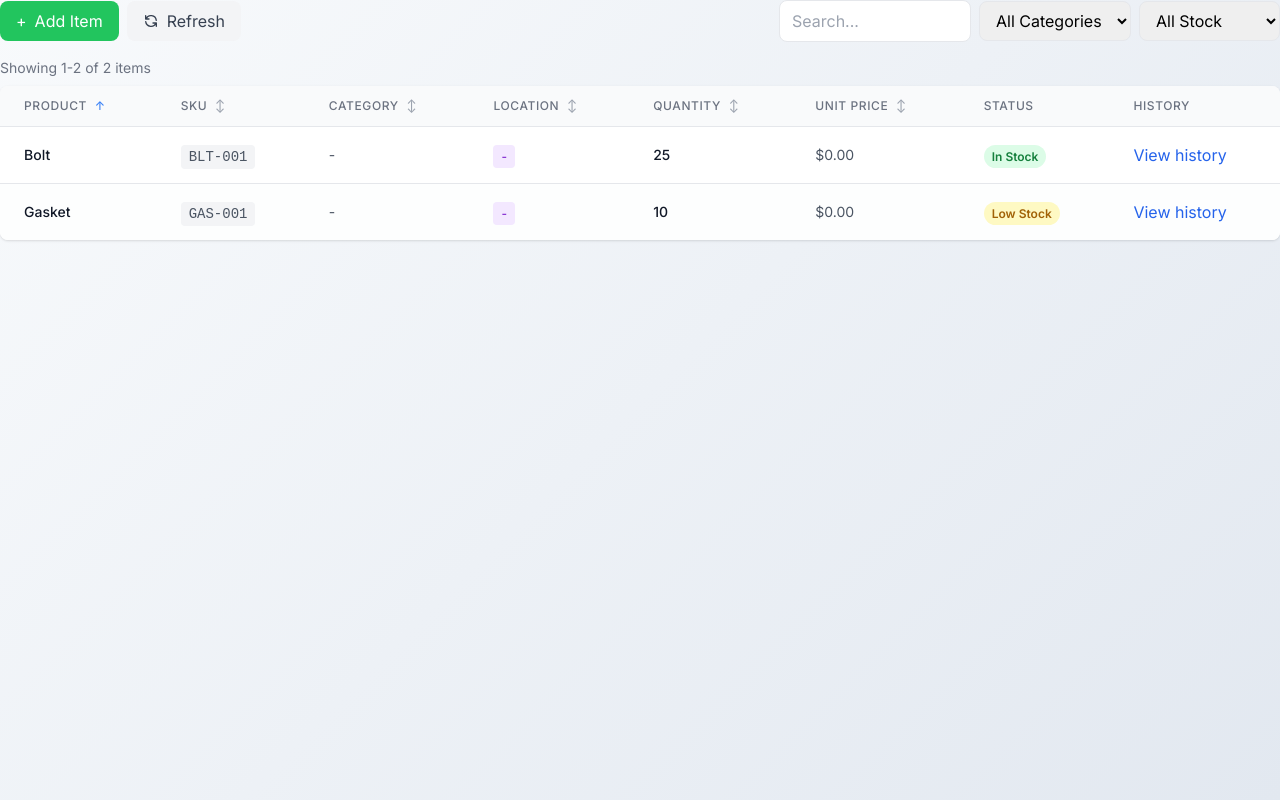
Test: switching items fetches that item history and replaces the old author
Click the button with aria-label "View history for Bolt": (1180, 155) 1133,143 -> 1227,167
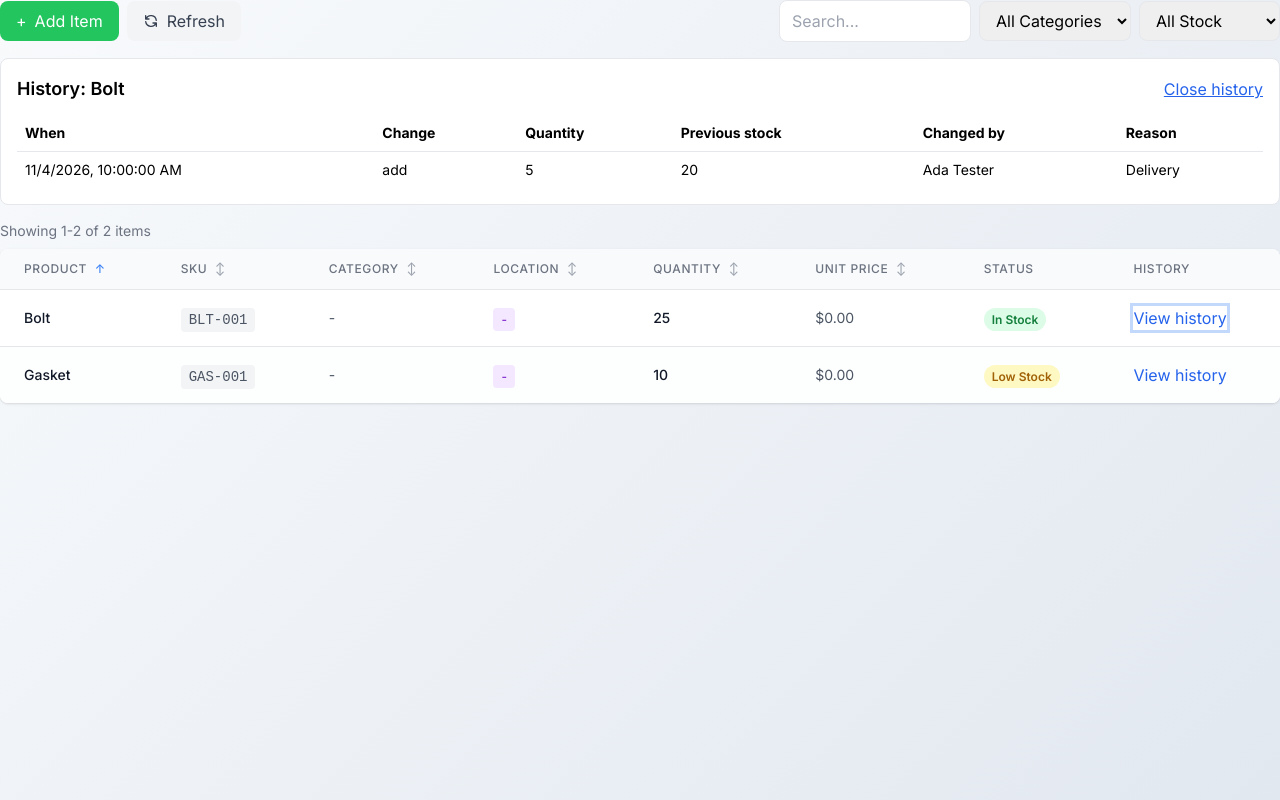
Check: the text "Ada Tester" is shown, box 915,152 -> 1118,188
Click the button with aria-label "View history for Gasket": (1180, 375) 1133,363 -> 1227,387
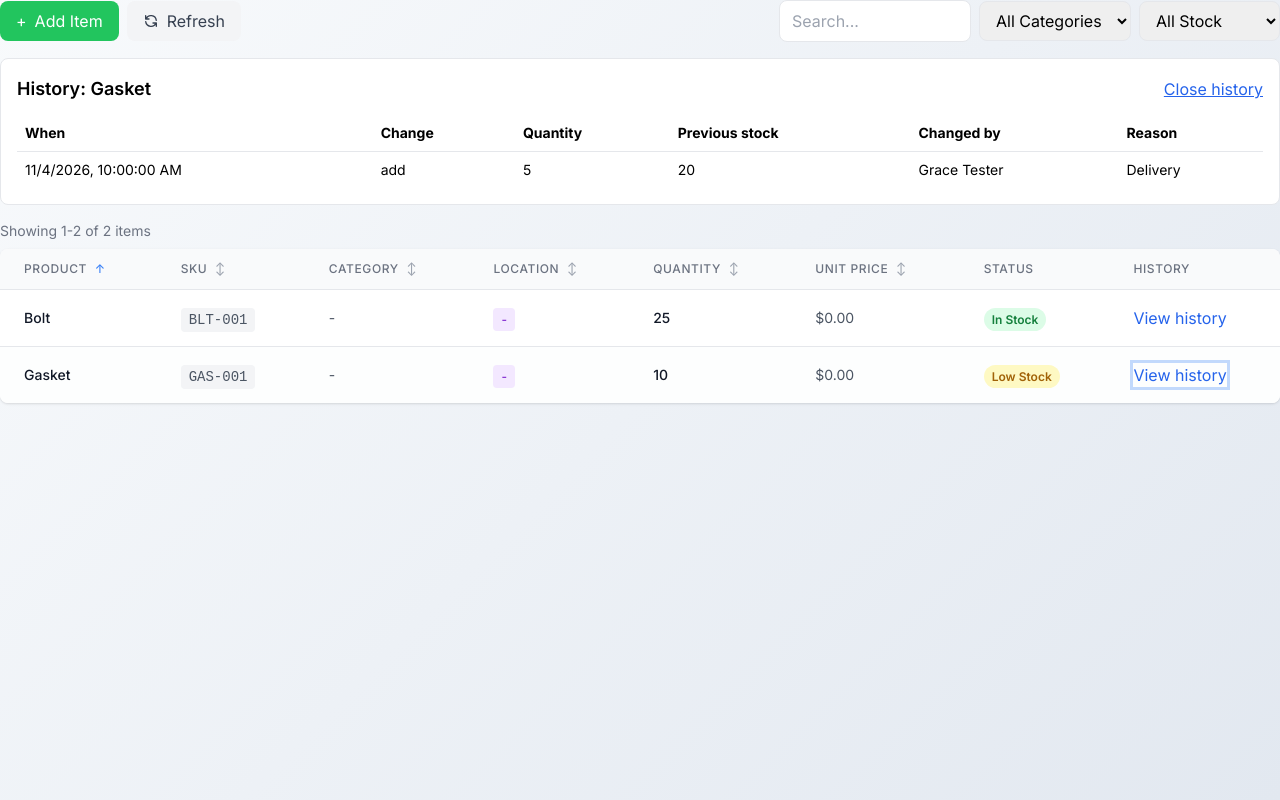
Check: the text "Grace Tester" is shown, box 910,152 -> 1118,188
Check: the text "Ada Tester" is gone
